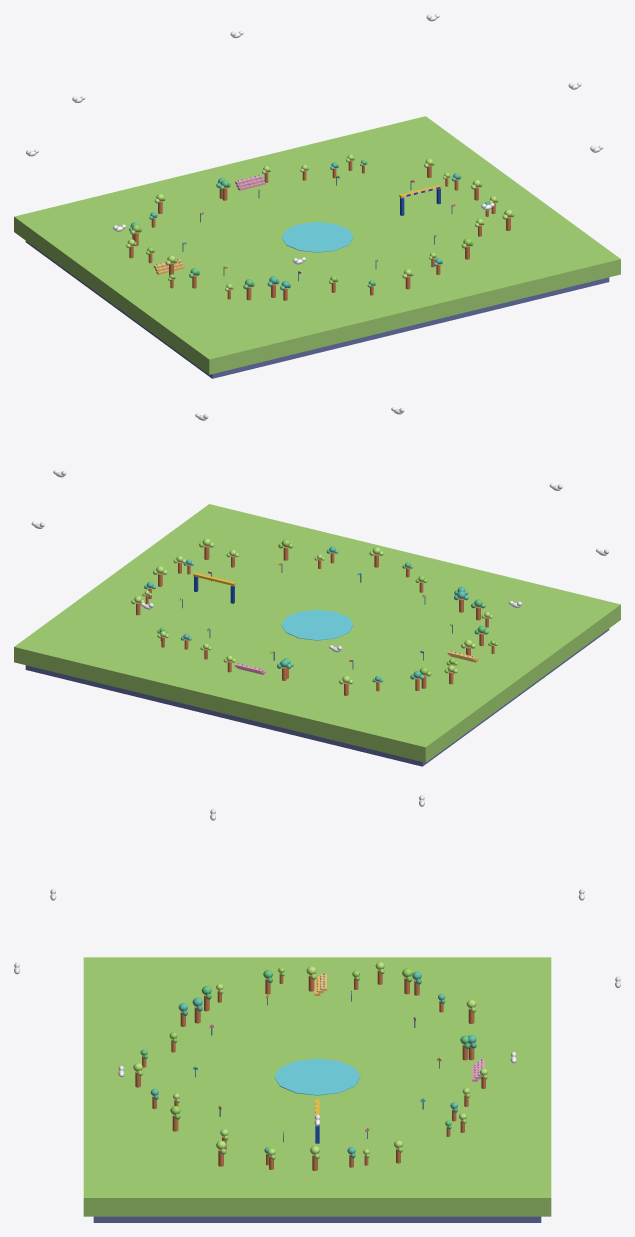
The model's file is environment_kit.glb.
The picture shows the model from 3 angles, top to bottom: view 1: azimuth 30°, elevation 25°; view 2: azimuth 150°, elevation 25°; view 3: azimuth 270°, elevation 25°; orthographic projection. The views are drawn at different scales.
Visible parts, largest first — view 1: SkyIsland, IslandUnderlayer, CenterPond; view 2: SkyIsland, IslandUnderlayer, CenterPond; view 3: SkyIsland, IslandUnderlayer, CenterPond.
Part boxes in pixels (x1,y1,x2,y2): SkyIsland: (14,116,620,374); IslandUnderlayer: (25,241,609,378); CenterPond: (281,222,353,252); SkyIsland: (14,504,620,762); IslandUnderlayer: (25,629,609,766); CenterPond: (281,609,353,640); SkyIsland: (83,957,551,1216); IslandUnderlayer: (93,1216,541,1222); CenterPond: (274,1058,360,1095).
Bounding box in the file's own units: 139 × 36.4 × 119.
